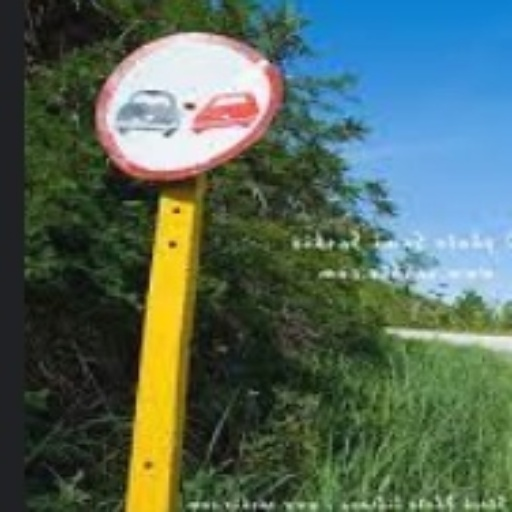No overtake: (68, 14, 281, 196)
